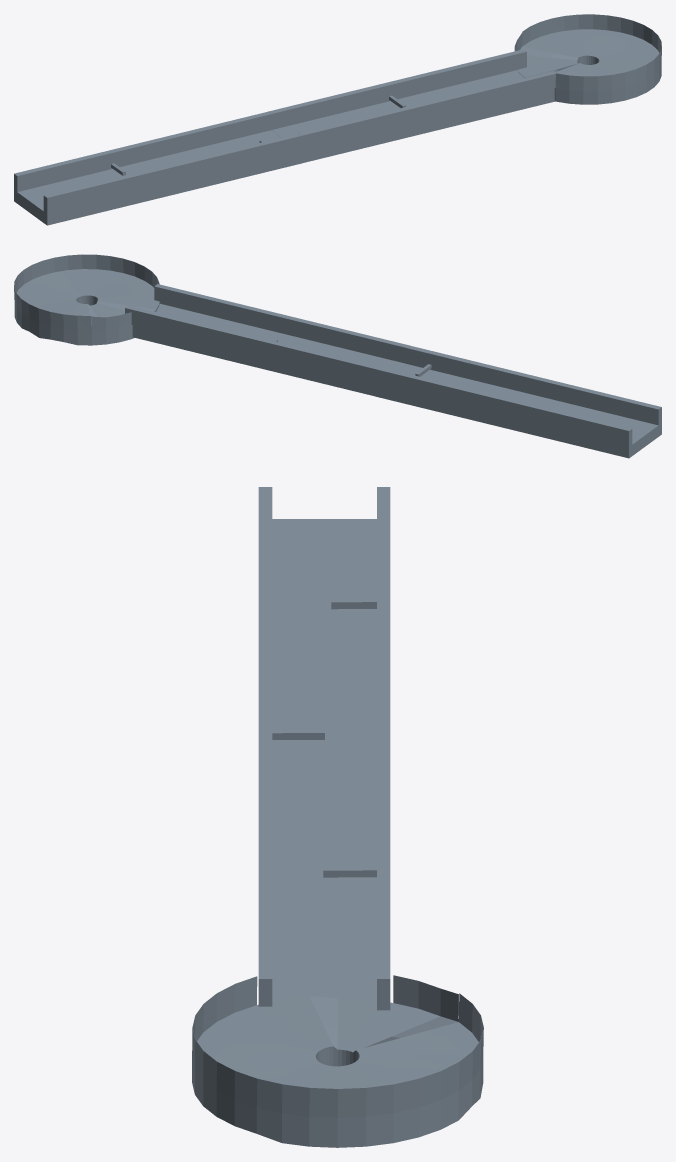
The model's file is golfvr-piste-4.glb.
The picture shows the model from 3 angles, top to bottom: view 1: azimuth 30°, elevation 25°; view 2: azimuth 150°, elevation 25°; view 3: azimuth 270°, elevation 25°; orthographic projection. The views are drawn at different scales.
Parts seen in each view (by area): view 1: Cube.001, Cube, Cylinder; view 2: Cube.001, Cube, Cylinder; view 3: Cylinder, Cube, Cube.001.
Part boxes in pixels (box(x1,y1,x2,y2)): Cube.001: box(14, 111, 302, 225); Cube: box(268, 49, 555, 162); Cylinder: box(514, 14, 661, 104); Cube.001: box(376, 345, 661, 458); Cube: box(125, 284, 409, 396); Cylinder: box(14, 254, 159, 345); Cylinder: box(192, 975, 483, 1147); Cube: box(258, 732, 390, 1010); Cube.001: box(258, 487, 390, 764).
Size of the model in its own units: 4 by 0.1842 by 0.8171.
